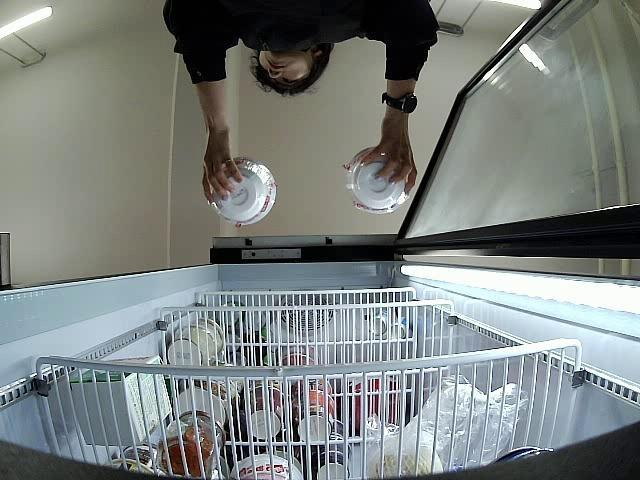09_yukGaeJang: (210, 158, 276, 228), (345, 147, 406, 216)
